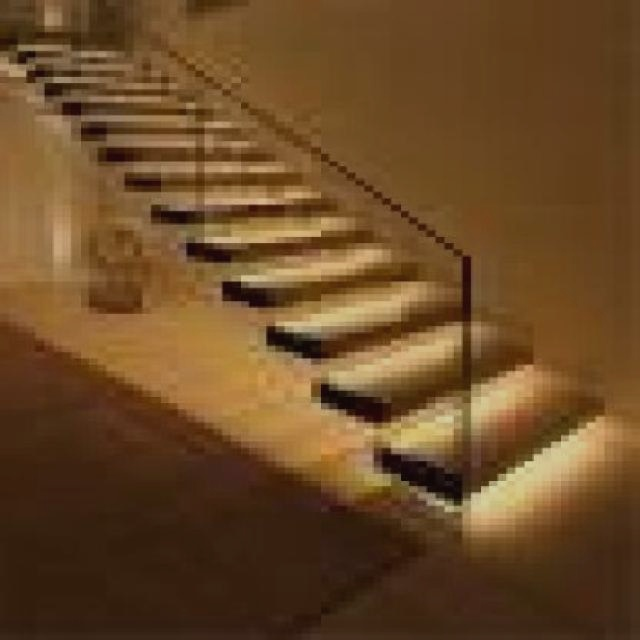stair: (0, 3, 640, 640)
